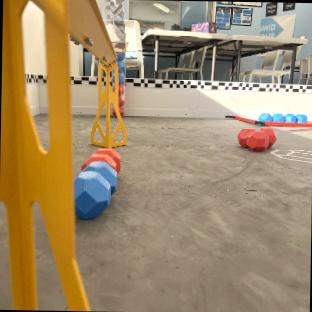Parking-R: (224, 114, 278, 126), (279, 122, 312, 127)
V5_BLUE: (73, 147, 120, 218), (260, 113, 306, 123)
V5_RED: (81, 147, 120, 172), (238, 127, 275, 150), (118, 82, 124, 113)
